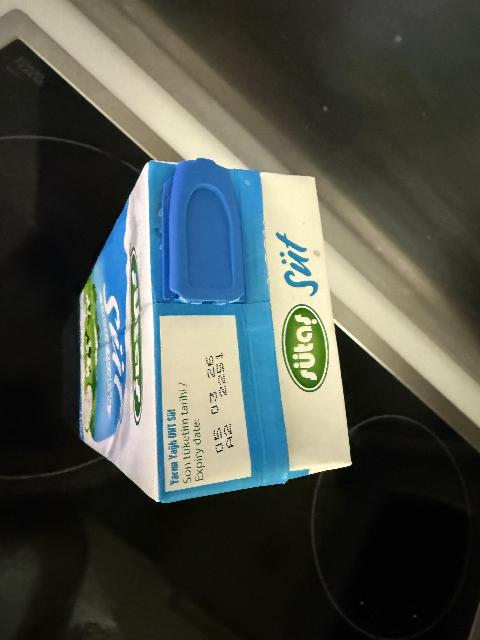Kagit: (73, 157, 360, 506)
Plastik: (165, 160, 248, 310)
